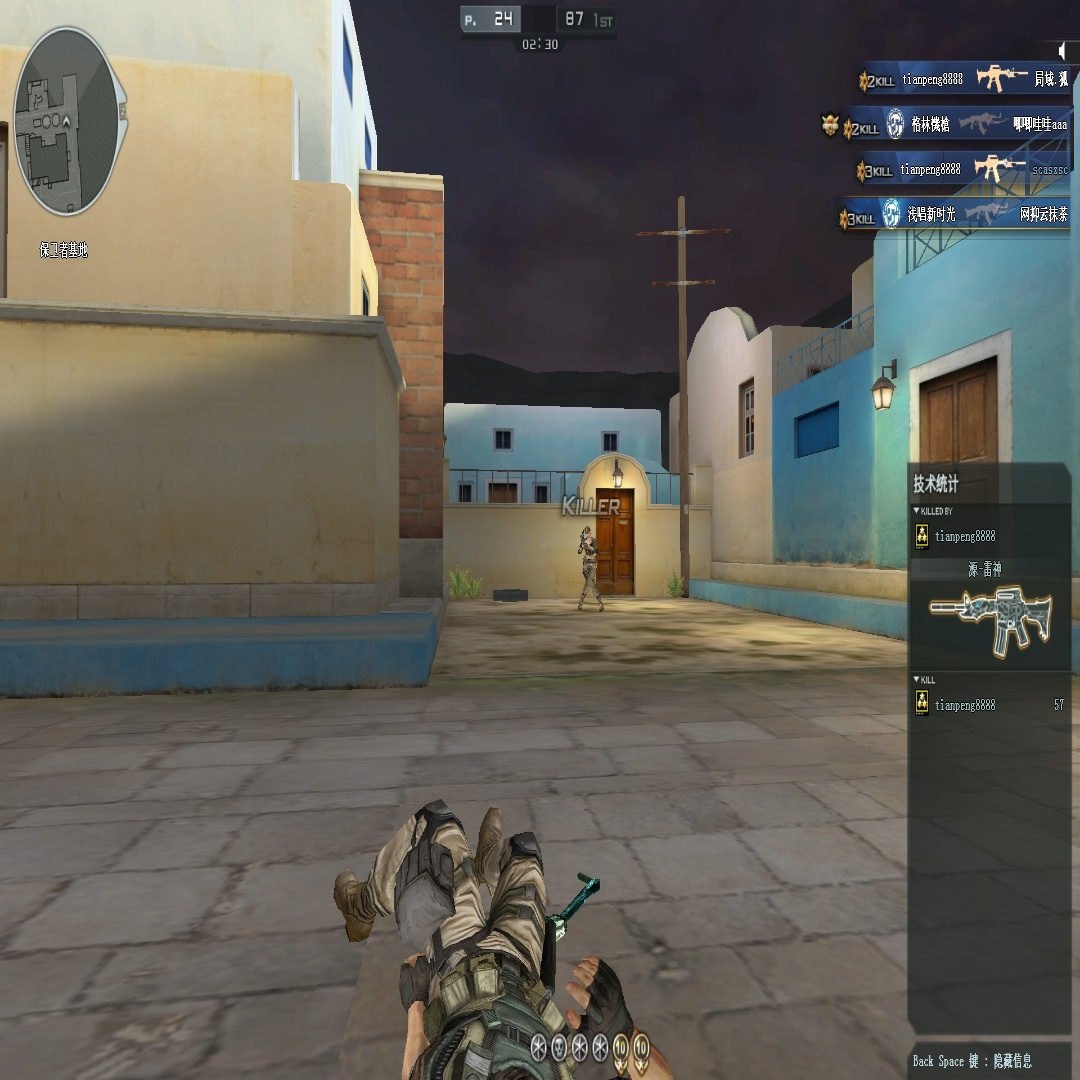head: (584, 526, 592, 538)
p: (574, 524, 605, 613)
